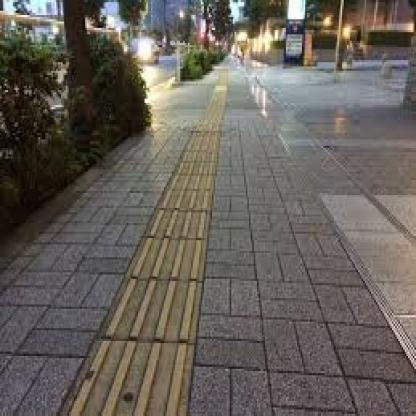podotacti: (58, 62, 225, 416)
